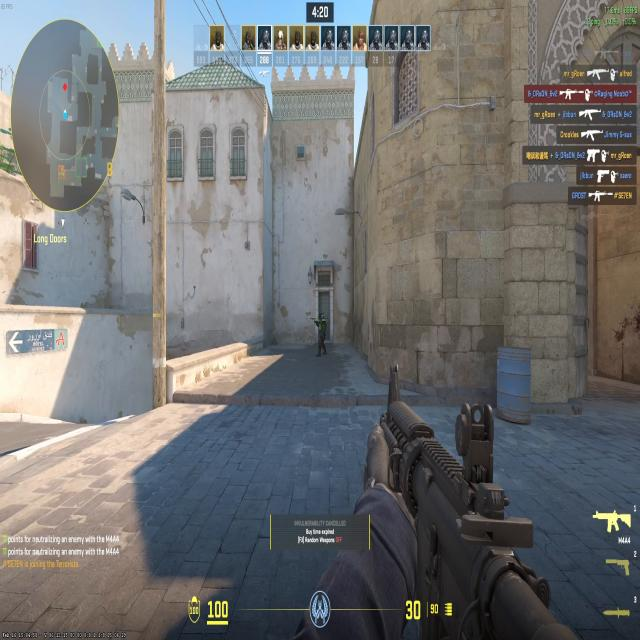player: (307, 309, 332, 361)
